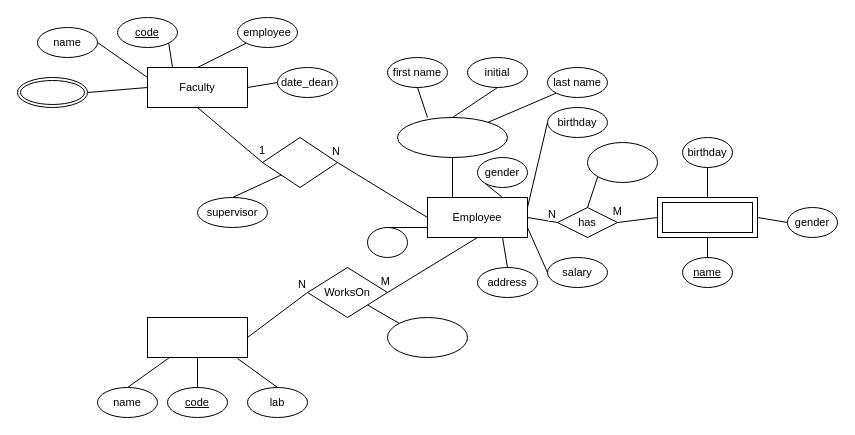
The diagram is 855 pixels wide and 435 high, and some of its shapes have lost their labels. The box of each missing label's shape, as (x1, y1, x2, y2) in pixels:
contact information: (396, 116, 508, 158)
Dependant: (656, 196, 758, 238)
hoursPerWeek: (386, 316, 468, 358)
ID: (366, 226, 408, 258)
locations: (16, 76, 88, 108)
Projects: (146, 316, 248, 358)
relationship: (586, 142, 658, 182)
WorksFor: (262, 136, 338, 188)
